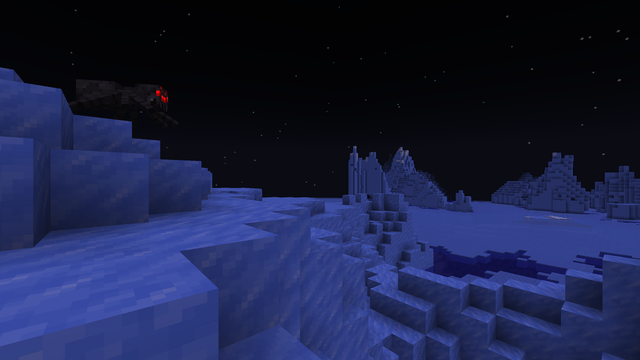araignees: (91, 64, 171, 129)
